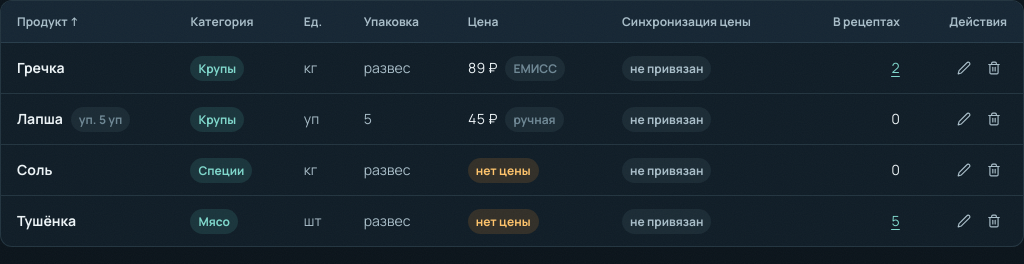
Test case: ProductTable (рендер и взаимодействия) › клик по другой колонке меняет ключ сортировки и ставит asc
Click the column heading "В рецептах" at (857, 22), box [798, 1, 916, 43]
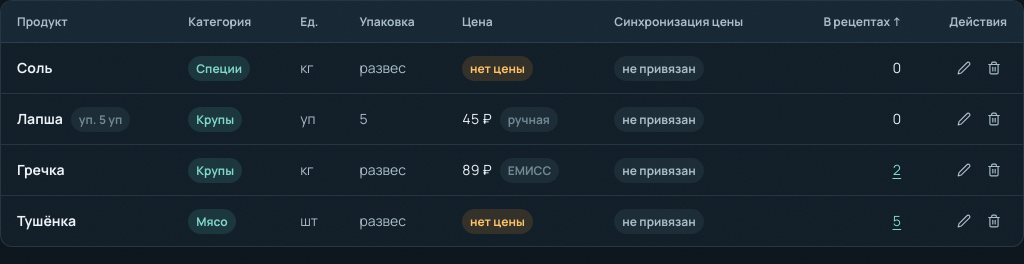
Result: the column heading "В рецептах ↑" is shown at [788, 1, 917, 43]
